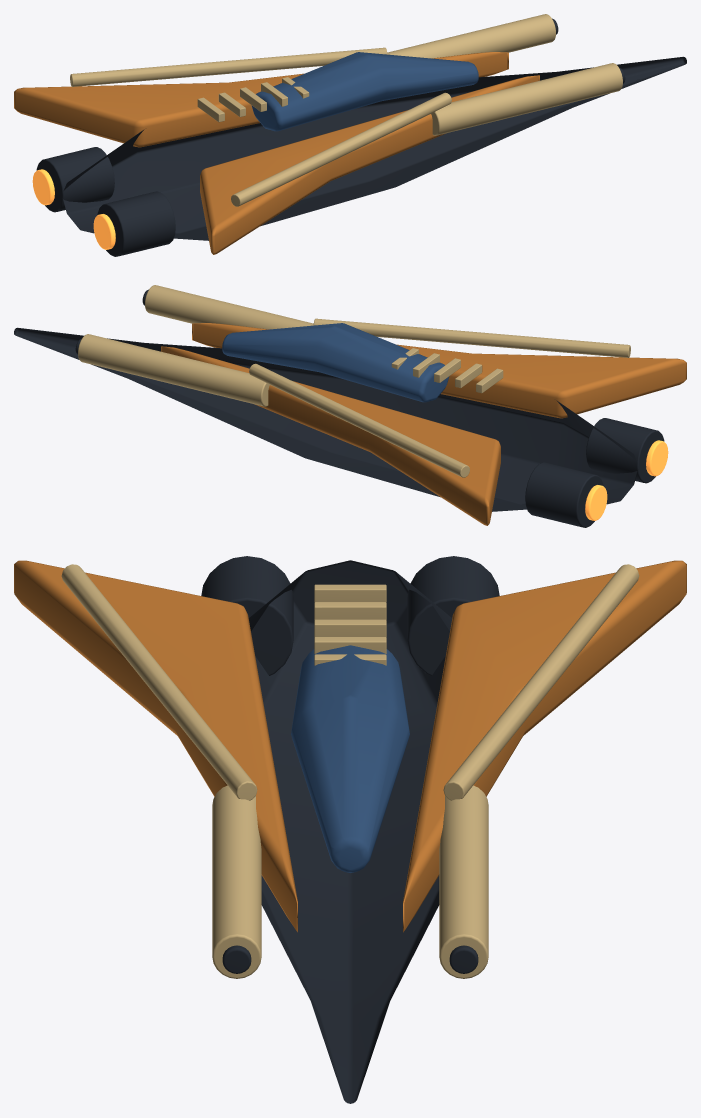
Rendered from hunter-v3.glb.
3 renders of one model, top to bottom at view 1: azimuth 30°, elevation 25°; view 2: azimuth 150°, elevation 25°; view 3: azimuth 270°, elevation 25°, orthographic. The views are drawn at different scales.
Visible parts, largest first — view 1: needle interceptor, scythe ceramic blade.001, scythe ceramic blade, insect canopy, long pursuit cannon, blade metallic leading seam.001, long pursuit cannon.001, afterburner, blade metallic leading seam, afterburner.001, afterburner lens, afterburner lens.001; view 2: needle interceptor, scythe ceramic blade, scythe ceramic blade.001, insect canopy, long pursuit cannon.001, blade metallic leading seam, long pursuit cannon, afterburner.001, blade metallic leading seam.001, afterburner, afterburner lens.001, afterburner lens; view 3: needle interceptor, scythe ceramic blade, scythe ceramic blade.001, insect canopy, long pursuit cannon, long pursuit cannon.001, blade metallic leading seam, blade metallic leading seam.001, afterburner.001, afterburner, spine radiator, spine radiator.001 (+2 smaller).
Boxes of the visible parts, <box> form: needle interceptor: <box>63,56,686,240</box>; scythe ceramic blade.001: <box>14,52,508,147</box>; scythe ceramic blade: <box>200,75,539,254</box>; insect canopy: <box>251,52,478,131</box>; long pursuit cannon: <box>431,63,622,135</box>; blade metallic leading seam.001: <box>70,47,387,86</box>; long pursuit cannon.001: <box>387,14,555,58</box>; afterburner: <box>97,191,175,256</box>; blade metallic leading seam: <box>231,92,451,206</box>; afterburner.001: <box>36,147,114,212</box>; afterburner lens: <box>93,214,115,249</box>; afterburner lens.001: <box>32,169,54,205</box>; needle interceptor: <box>14,327,637,511</box>; scythe ceramic blade: <box>192,323,686,418</box>; scythe ceramic blade.001: <box>161,346,500,525</box>; insect canopy: <box>222,323,449,402</box>; long pursuit cannon.001: <box>78,334,269,406</box>; blade metallic leading seam: <box>313,318,630,357</box>; long pursuit cannon: <box>145,285,313,329</box>; afterburner.001: <box>525,462,603,527</box>; blade metallic leading seam.001: <box>249,363,469,477</box>; afterburner: <box>586,418,664,483</box>; afterburner lens.001: <box>585,485,607,520</box>; afterburner lens: <box>646,440,668,476</box>; needle interceptor: <box>248,560,452,1103</box>; scythe ceramic blade: <box>14,560,297,932</box>; scythe ceramic blade.001: <box>403,560,686,932</box>; insect canopy: <box>291,645,409,872</box>; long pursuit cannon: <box>212,785,261,978</box>; long pursuit cannon.001: <box>439,785,488,978</box>; blade metallic leading seam: <box>61,564,257,800</box>; blade metallic leading seam.001: <box>443,564,639,800</box>; afterburner.001: <box>407,556,499,675</box>; afterburner: <box>201,556,293,675</box>; spine radiator: <box>314,584,386,602</box>; spine radiator.001: <box>314,602,386,619</box>.
Bounding box in the file's own units: 116 × 23.85 × 65.21.
